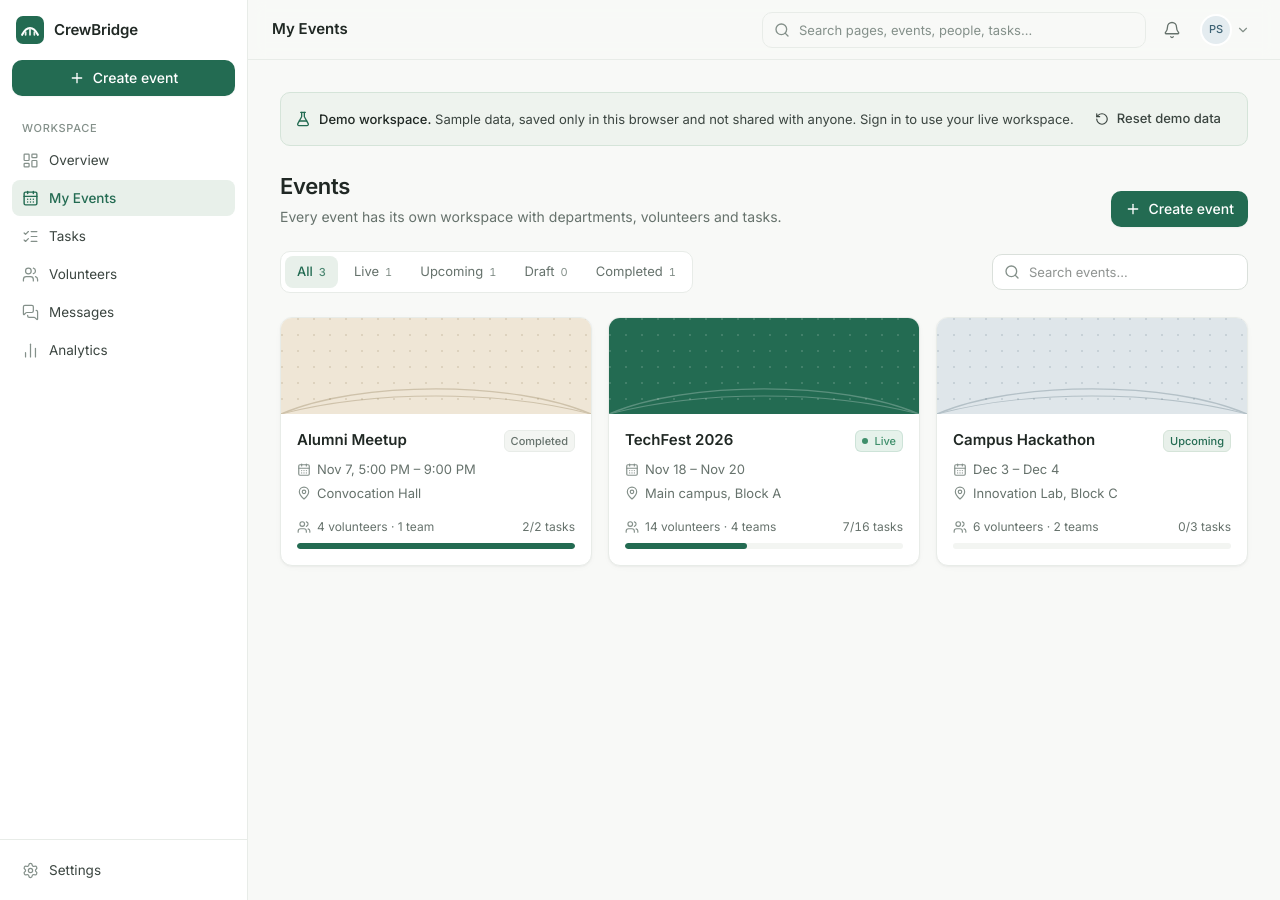
Test: Events › lists events and filters by status
The width and height of the screenshot is (1280, 900).
Check: the heading "TechFest 2026" is shown, box [625,430,733,451]
Step 1. Click the tab "Upcoming 1" → (458, 272), box [408,256,508,288]
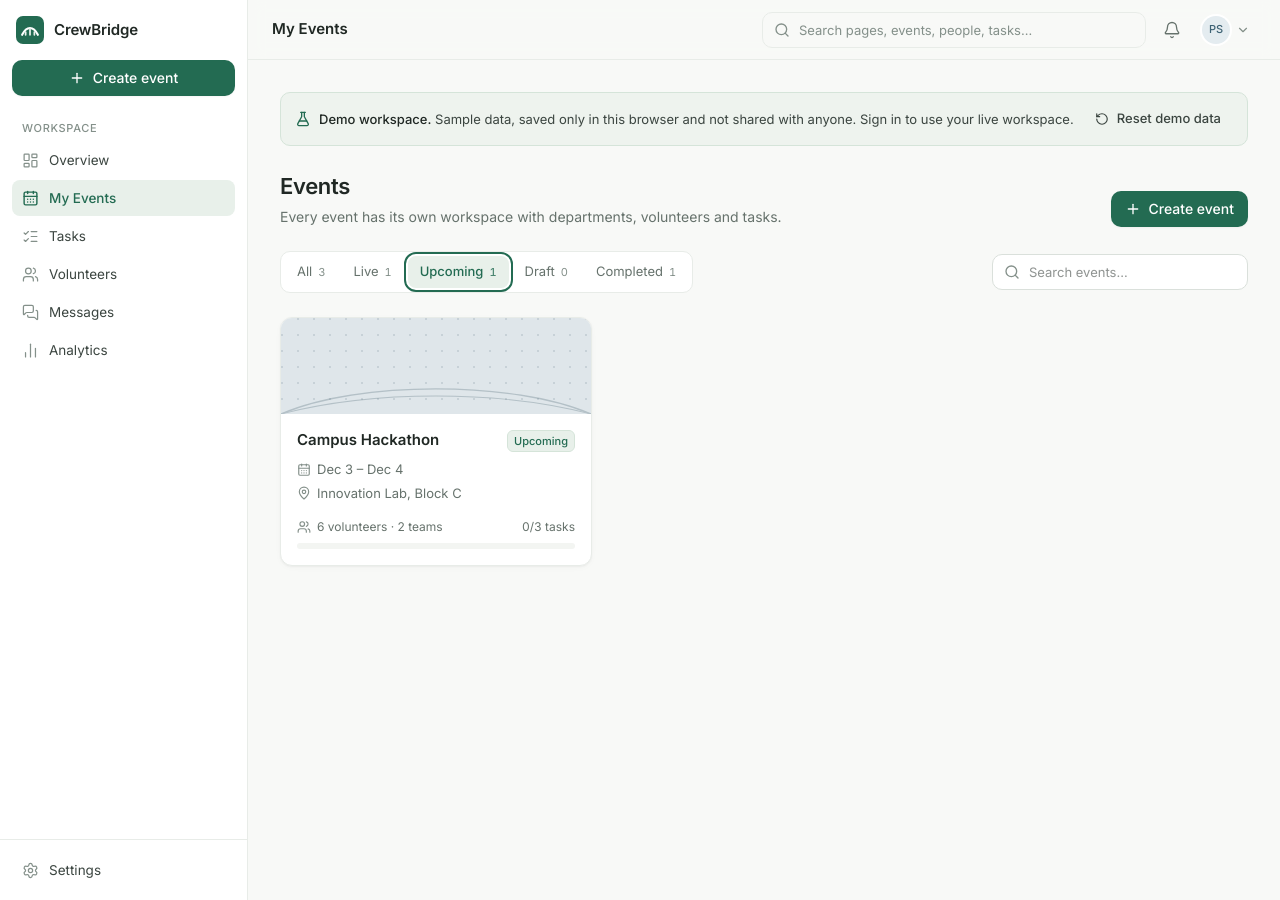
Check: the heading "Campus Hackathon" is shown, box [297,430,439,451]
Check: the link "TechFest 2026" is gone
